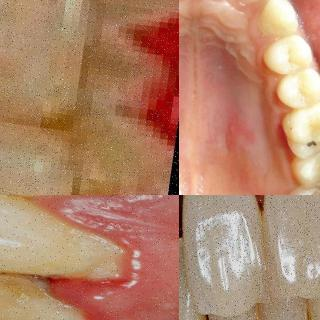Gum Swelling: (45, 195, 179, 320)
calculus: (53, 111, 173, 195), (0, 0, 86, 102), (68, 31, 177, 98), (96, 0, 179, 18)
cavities: (304, 134, 320, 158)
plaque: (20, 208, 134, 278), (0, 264, 58, 301), (17, 305, 101, 320)
